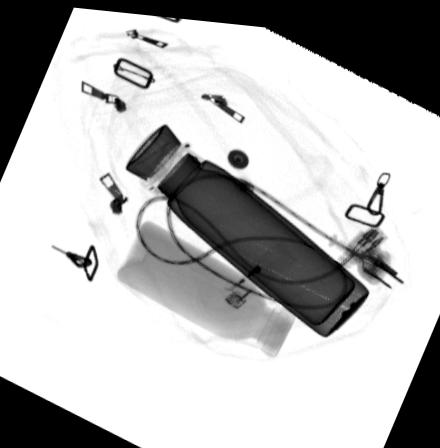Lighter: (217, 236, 294, 305)
